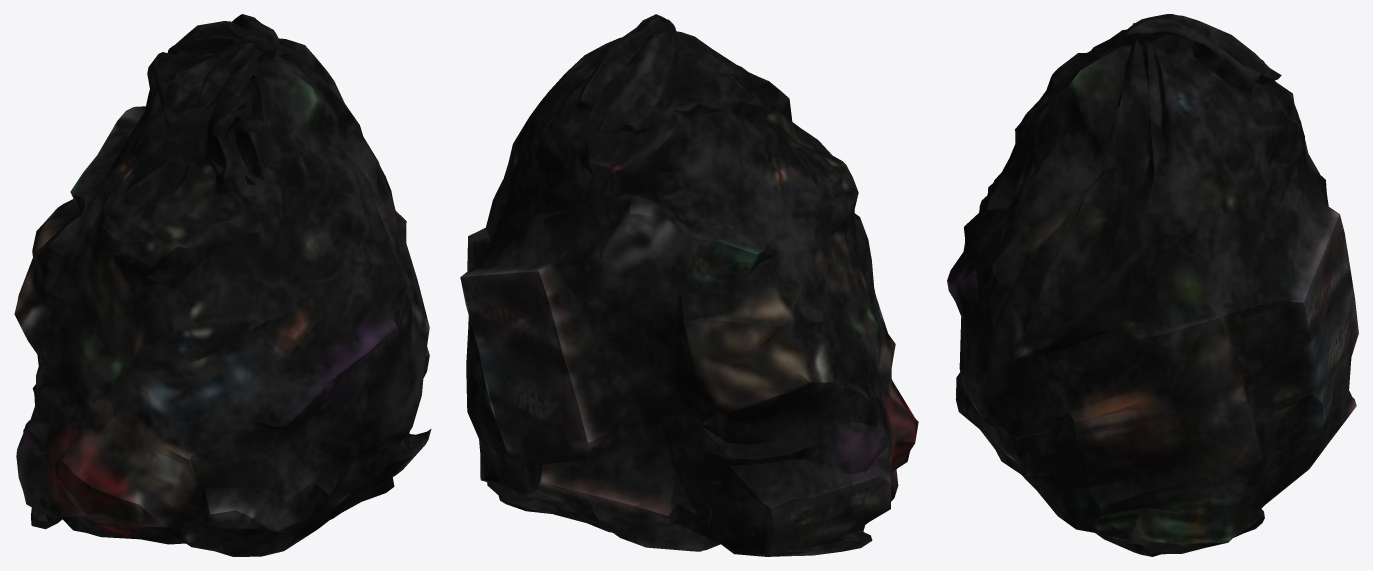
Rendered from trashbag.glb.
3 renders of one model, left to right at view 1: azimuth 30°, elevation 25°; view 2: azimuth 150°, elevation 25°; view 3: azimuth 270°, elevation 25°, orthographic. The views are drawn at different scales.
Parts seen in each view (by area): view 1: trashbag; view 2: trashbag; view 3: trashbag.
Boxes of the visible parts, <box> form: trashbag: <box>14,14,431,556</box>; trashbag: <box>460,14,918,556</box>; trashbag: <box>947,14,1358,556</box>.
Size of the model in its own units: 0.5281 by 0.575 by 0.4629.
Materials: 1 (1 with a texture image).
